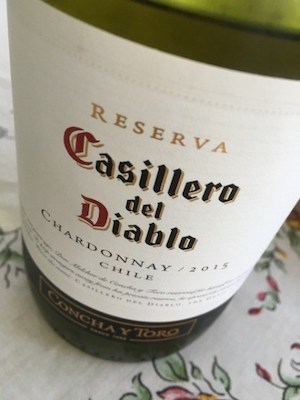casillero del diablo chardonnay: (7, 2, 300, 370)
